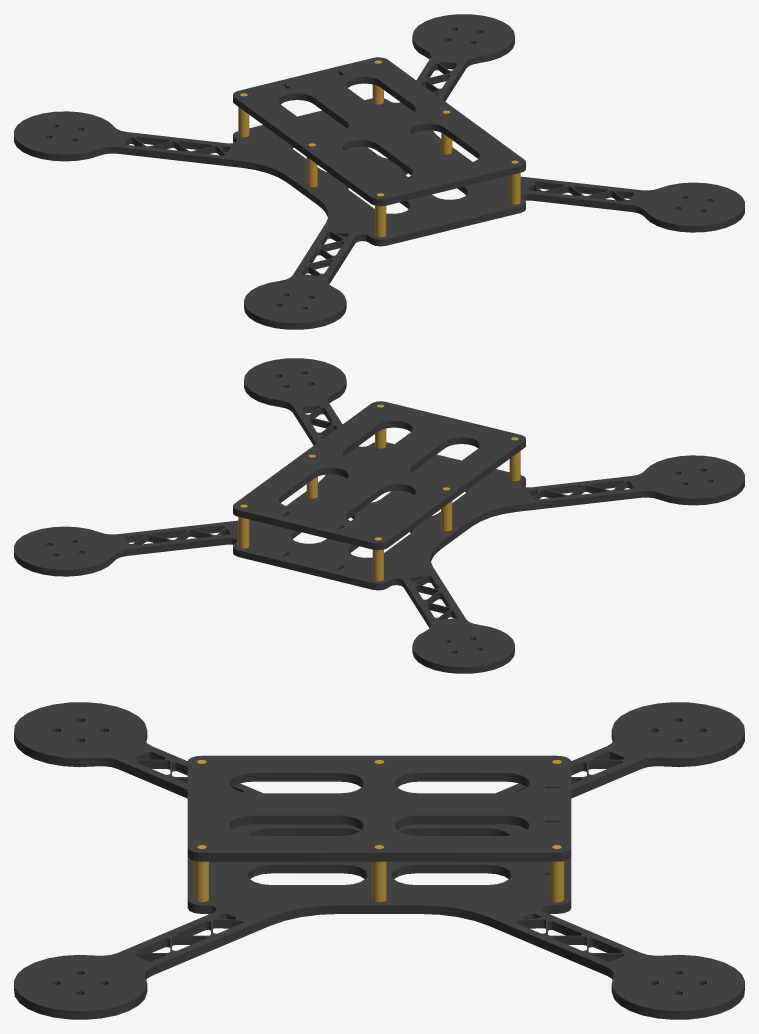
The model's file is modular-drone.glb.
3 views of the same model, one above another, from view 1: azimuth 30°, elevation 25°; view 2: azimuth 150°, elevation 25°; view 3: azimuth 270°, elevation 25° (orthographic). The views are drawn at different scales.
Visible parts, largest first — view 1: Base, TopCover, FrameScrew; view 2: Base, TopCover, FrameScrew; view 3: Base, TopCover, FrameScrew.
Boxes of the visible parts, x1=… form: Base: x1=14, y1=14, x2=744, y2=329; TopCover: x1=233, y1=57, x2=525, y2=206; FrameScrew: x1=238, y1=60, x2=520, y2=237; Base: x1=14, y1=358, x2=744, y2=673; TopCover: x1=233, y1=401, x2=525, y2=550; FrameScrew: x1=238, y1=404, x2=520, y2=581; Base: x1=14, y1=702, x2=744, y2=1019; TopCover: x1=187, y1=755, x2=571, y2=861; FrameScrew: x1=194, y1=760, x2=564, y2=902.
Size of the model in its own units: 1.81 by 0.1661 by 1.81.
